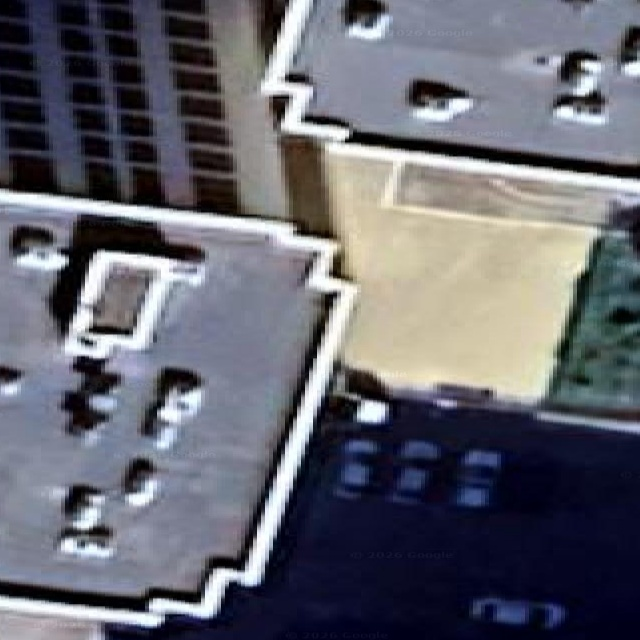car: (327, 368, 390, 424), (391, 440, 440, 503), (468, 596, 564, 628), (453, 448, 500, 507), (407, 80, 475, 120), (333, 439, 379, 496), (560, 49, 602, 96), (344, 0, 390, 40), (552, 91, 607, 124), (327, 395, 388, 424), (59, 527, 114, 557), (432, 384, 493, 407), (620, 27, 639, 76)
